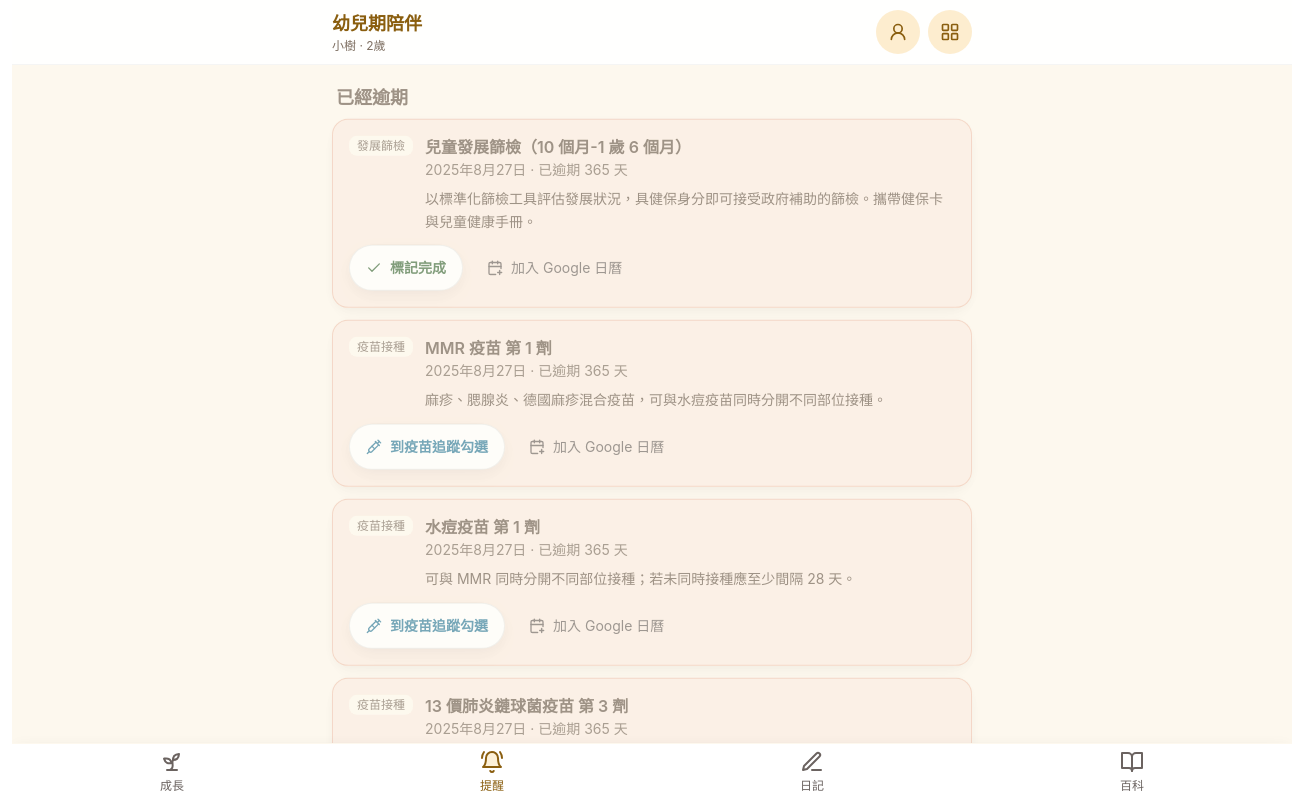
Test: RemindersPage › 完成日期清空時不能送出
This screenshot has width=1304, height=800.
Click the button "標記完成" at (406, 268), box top-left (349, 245), bottom-right (463, 291)
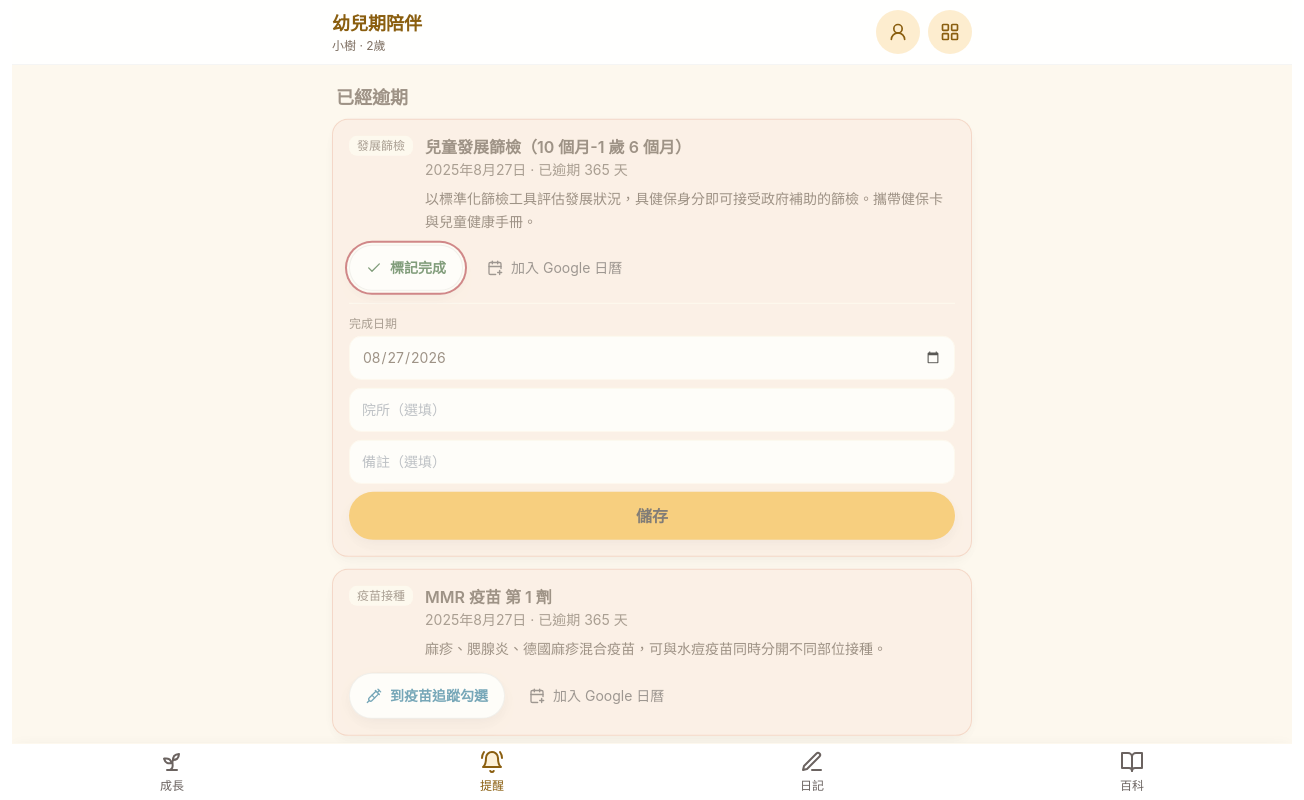
Clear the date field labelled "完成日期" at (652, 358), box top-left (349, 336), bottom-right (955, 380)
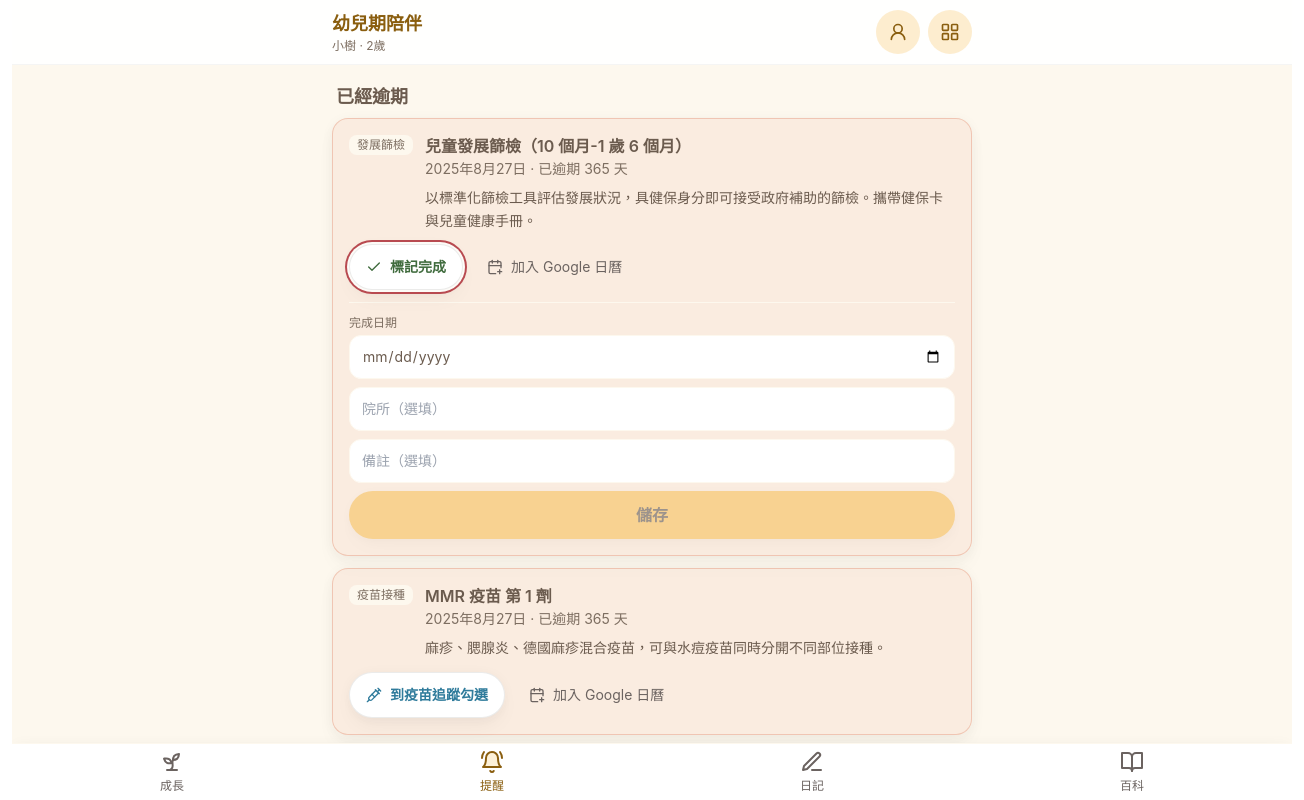
Expected: the button "儲存" is disabled, top-left (349, 491), bottom-right (955, 539)
